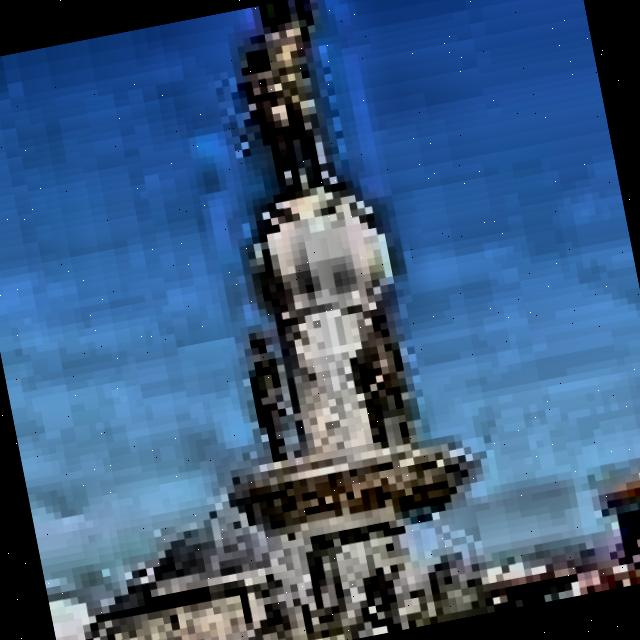Philip II of Macedonia: (134, 0, 498, 640)
